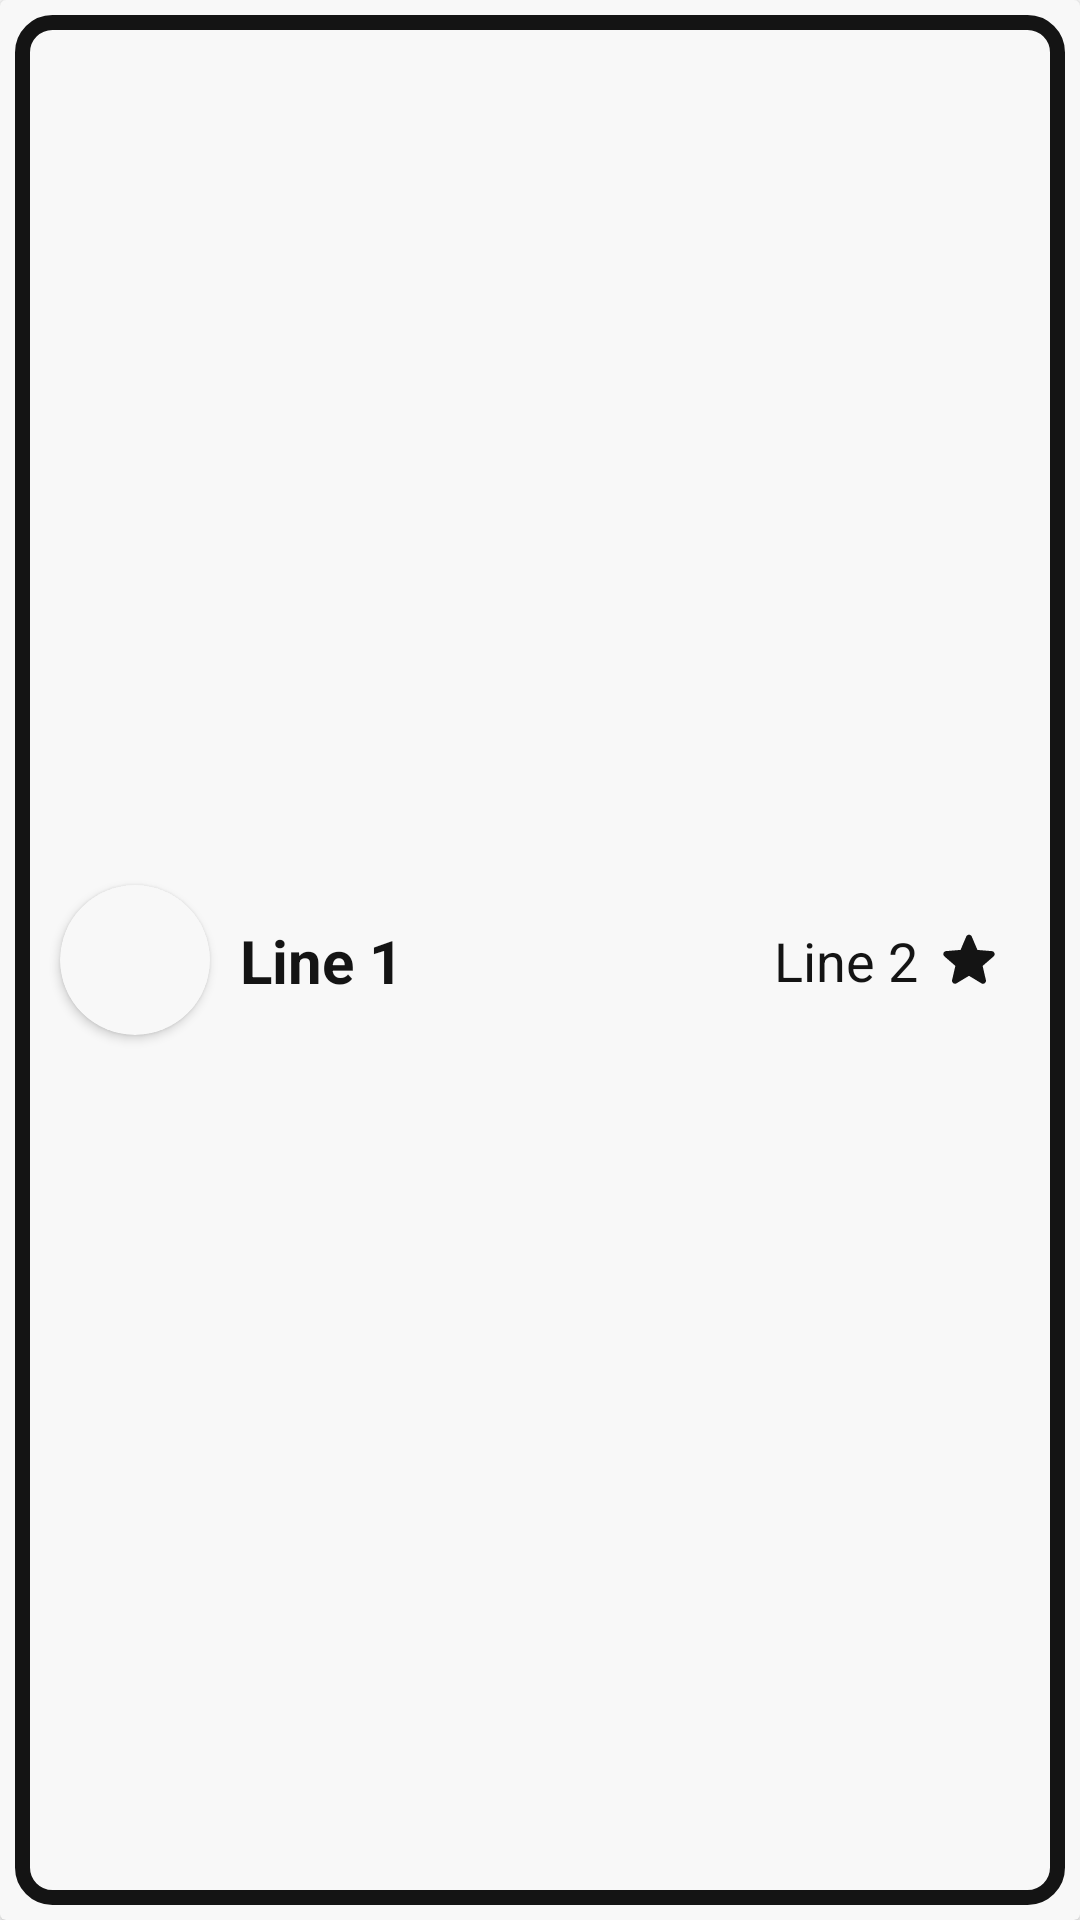

Screen size 1080 x 1920. Icon name, then its box in pixels as (x1, y1, x2, y2):
star: (943, 934, 995, 984)
